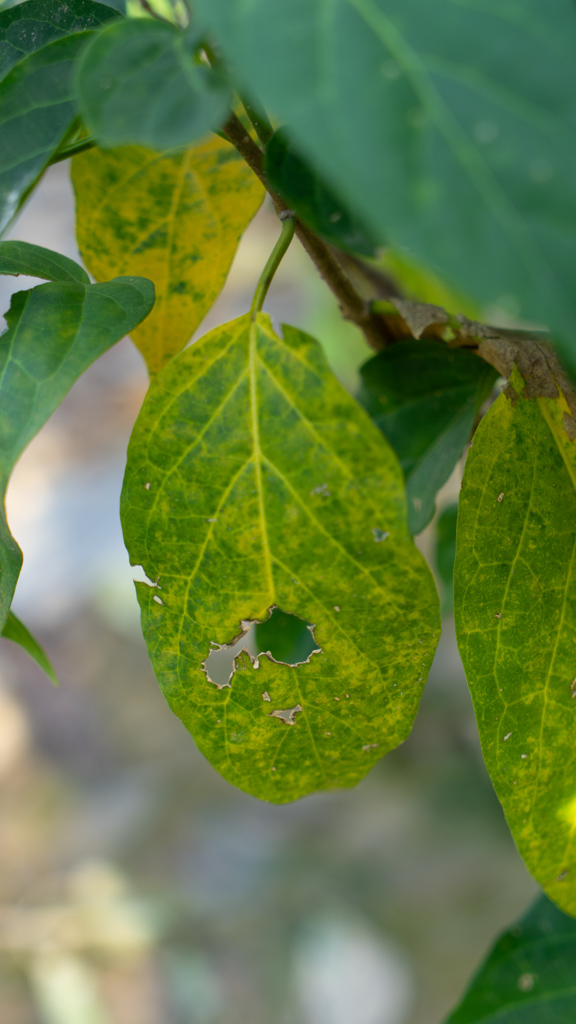Pepper yellow leaf: (110, 310, 443, 805), (452, 373, 571, 936), (63, 135, 269, 398)
